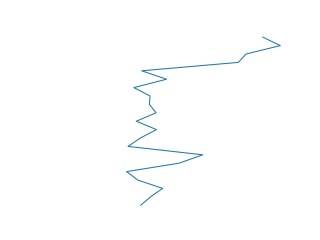crevasseRiverChannelBar: (120, 34, 284, 209)
